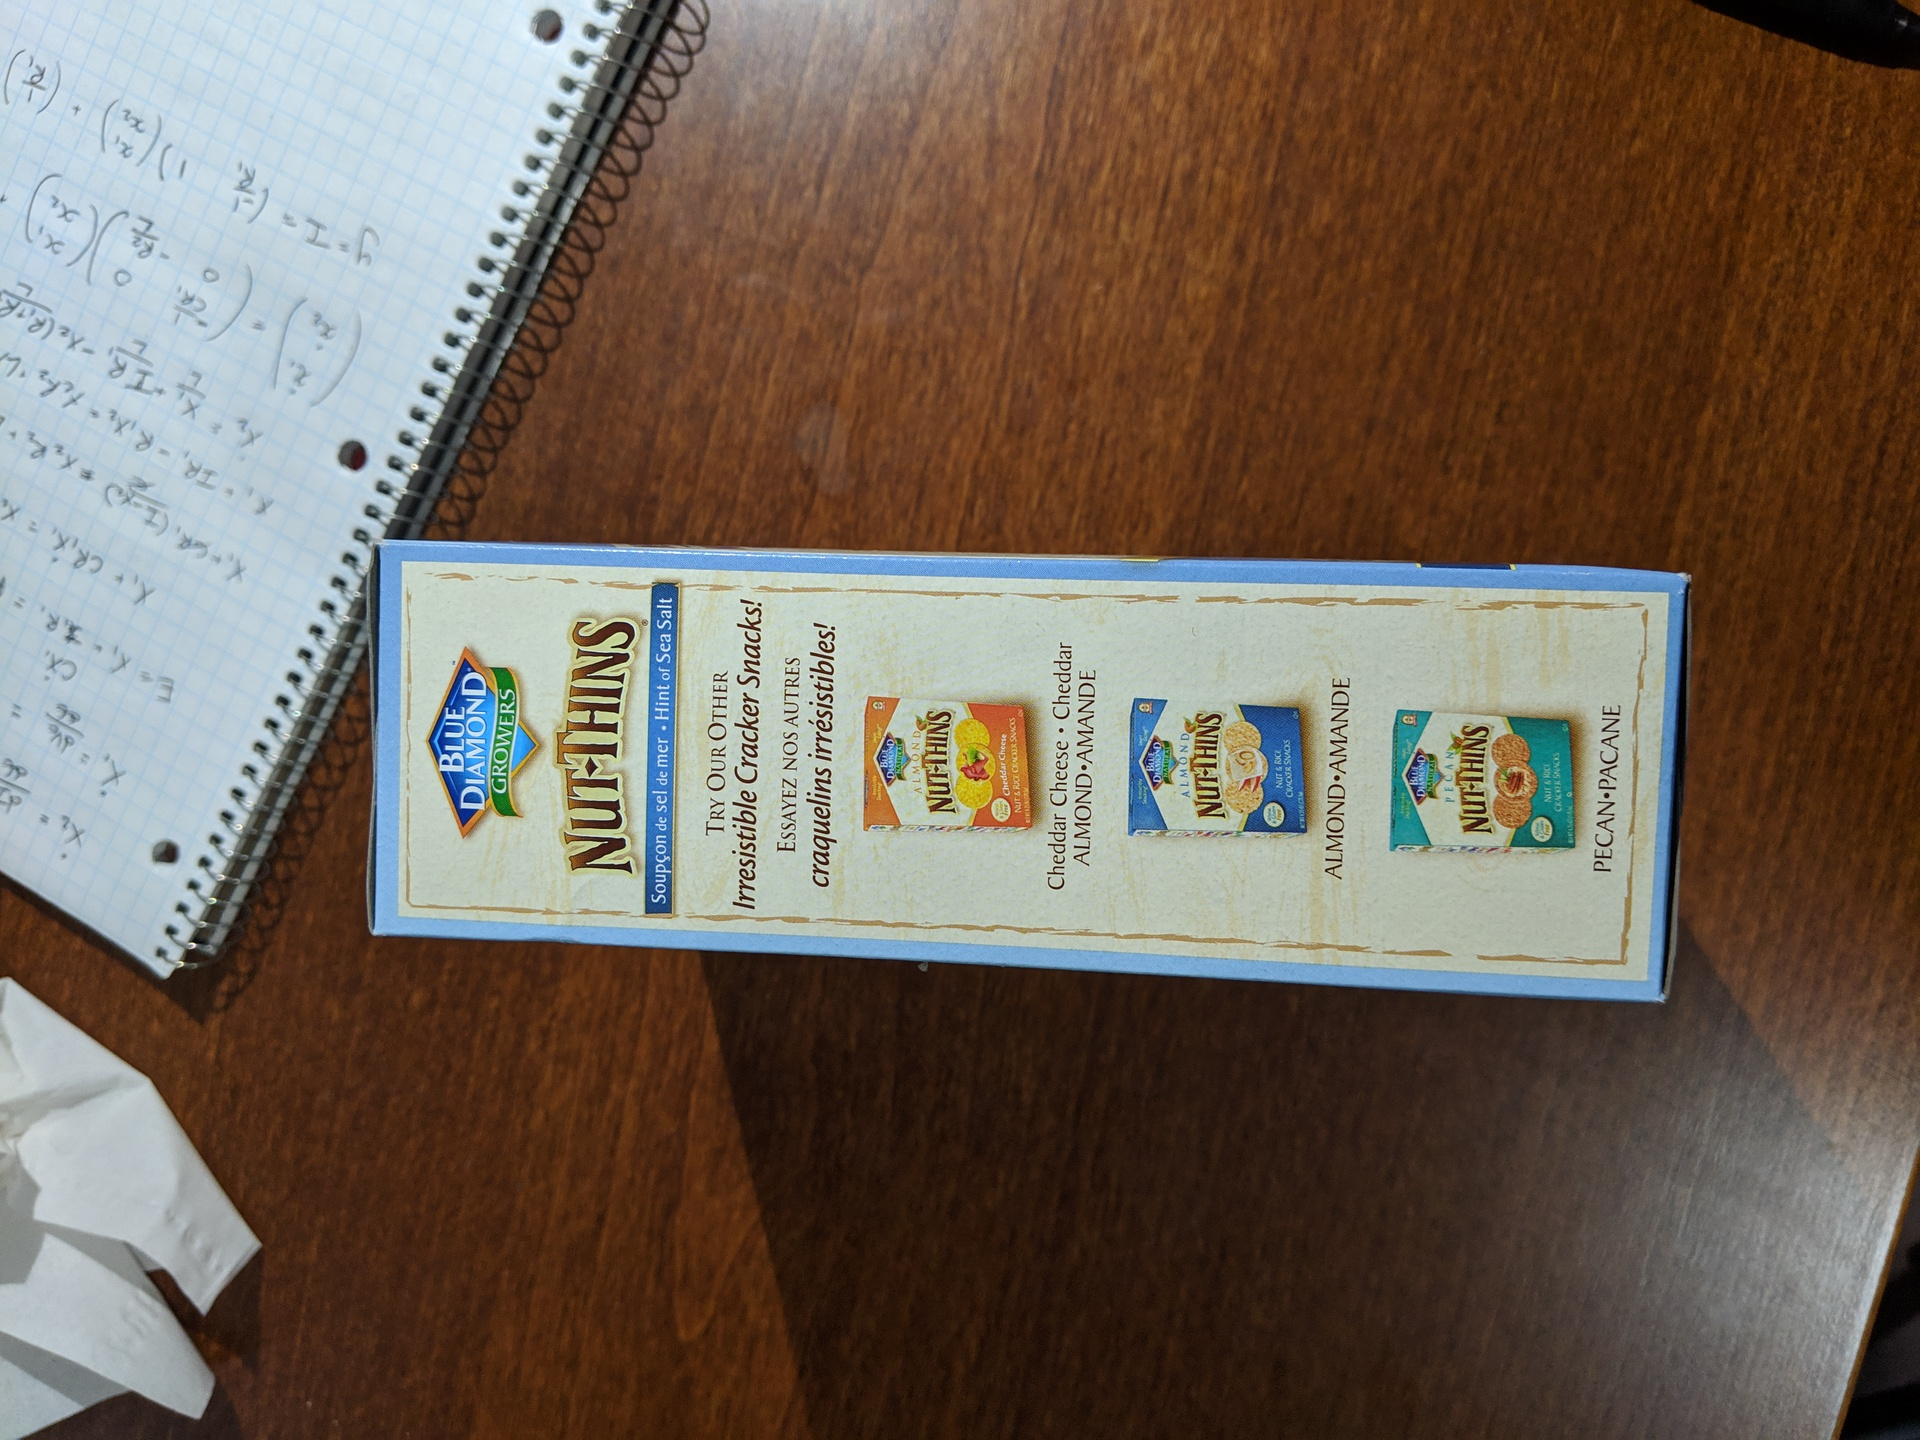blue_diamond_nut_thins_almond_seasalt: (373, 545, 1674, 1003)
